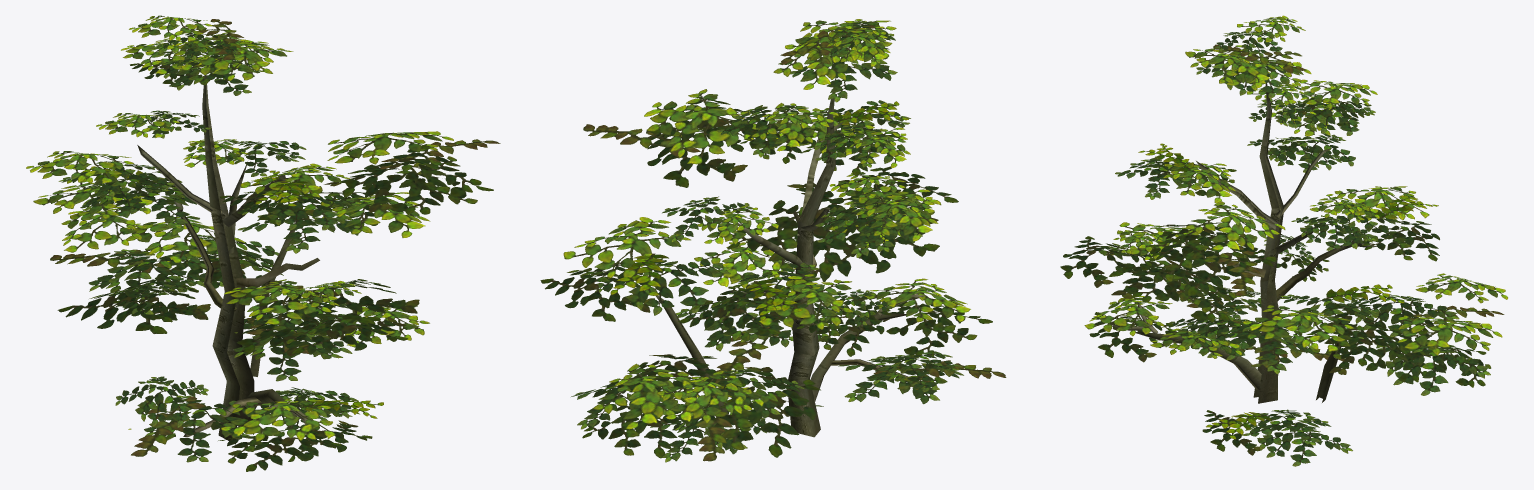
The model's file is S_Tree_Green126_H1.FBX.
3 views of the same model, side by side, from view 1: azimuth 30°, elevation 25°; view 2: azimuth 150°, elevation 25°; view 3: azimuth 270°, elevation 25° (orthographic). The views are drawn at different scales.
Parts seen in each view (by area): view 1: S_Tree_Green126_H1_2, S_Tree_Green126_H1_1; view 2: S_Tree_Green126_H1_2, S_Tree_Green126_H1_1; view 3: S_Tree_Green126_H1_2, S_Tree_Green126_H1_1.
Boxes of the visible parts, left/top/right/bottom form: S_Tree_Green126_H1_2: left=26, top=15, right=500, bottom=471; S_Tree_Green126_H1_1: left=137, top=75, right=319, bottom=444; S_Tree_Green126_H1_2: left=540, top=19, right=1006, bottom=462; S_Tree_Green126_H1_1: left=655, top=77, right=925, bottom=437; S_Tree_Green126_H1_2: left=1060, top=15, right=1507, bottom=466; S_Tree_Green126_H1_1: left=1111, top=83, right=1376, bottom=403.
Size of the model in its own units: 629 by 622 by 732.
2 materials, 2 textured.
